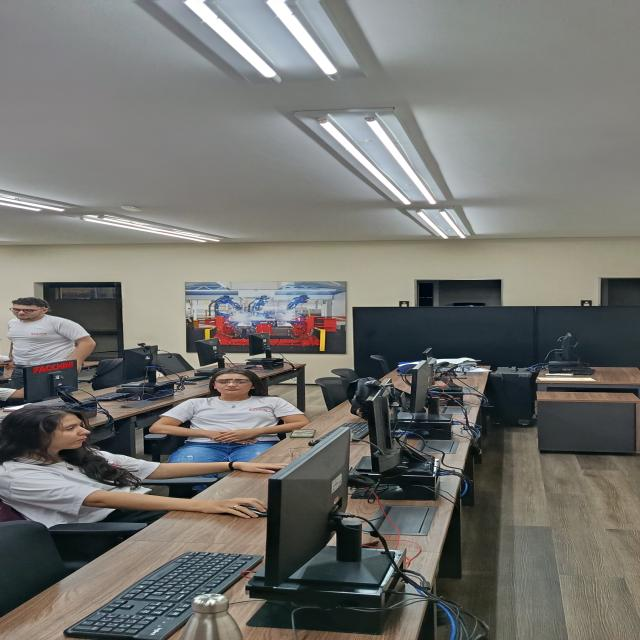oculos-epi: (214, 379, 252, 386)
sem_oculos: (50, 424, 93, 433), (15, 310, 36, 313)
